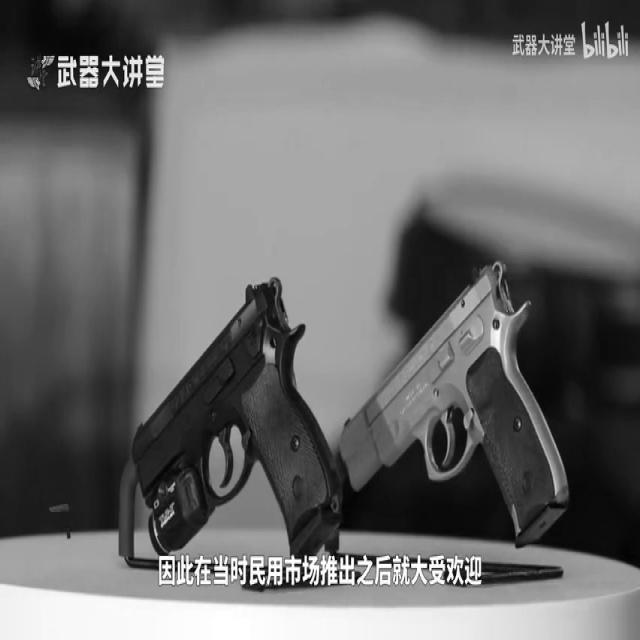Hand-Gun: (307, 210, 596, 634), (95, 229, 364, 632)
